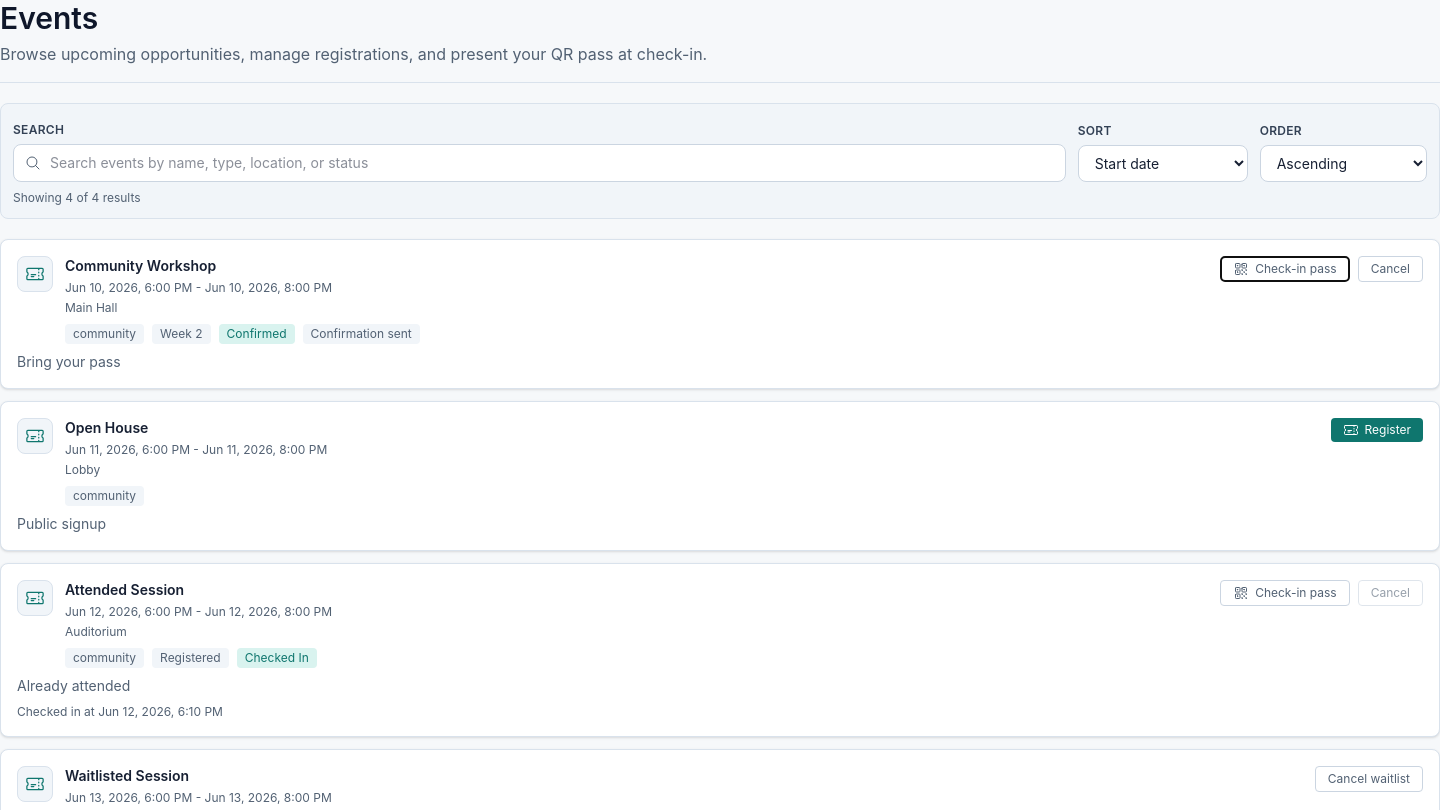
Test: PortalEventsPage › restores focus after dismissing the QR pass dialog with escape
Click the button "Check-in pass" in the row of "Community Workshop".
click(1285, 268)  # box top-left (1220, 256), bottom-right (1350, 282)
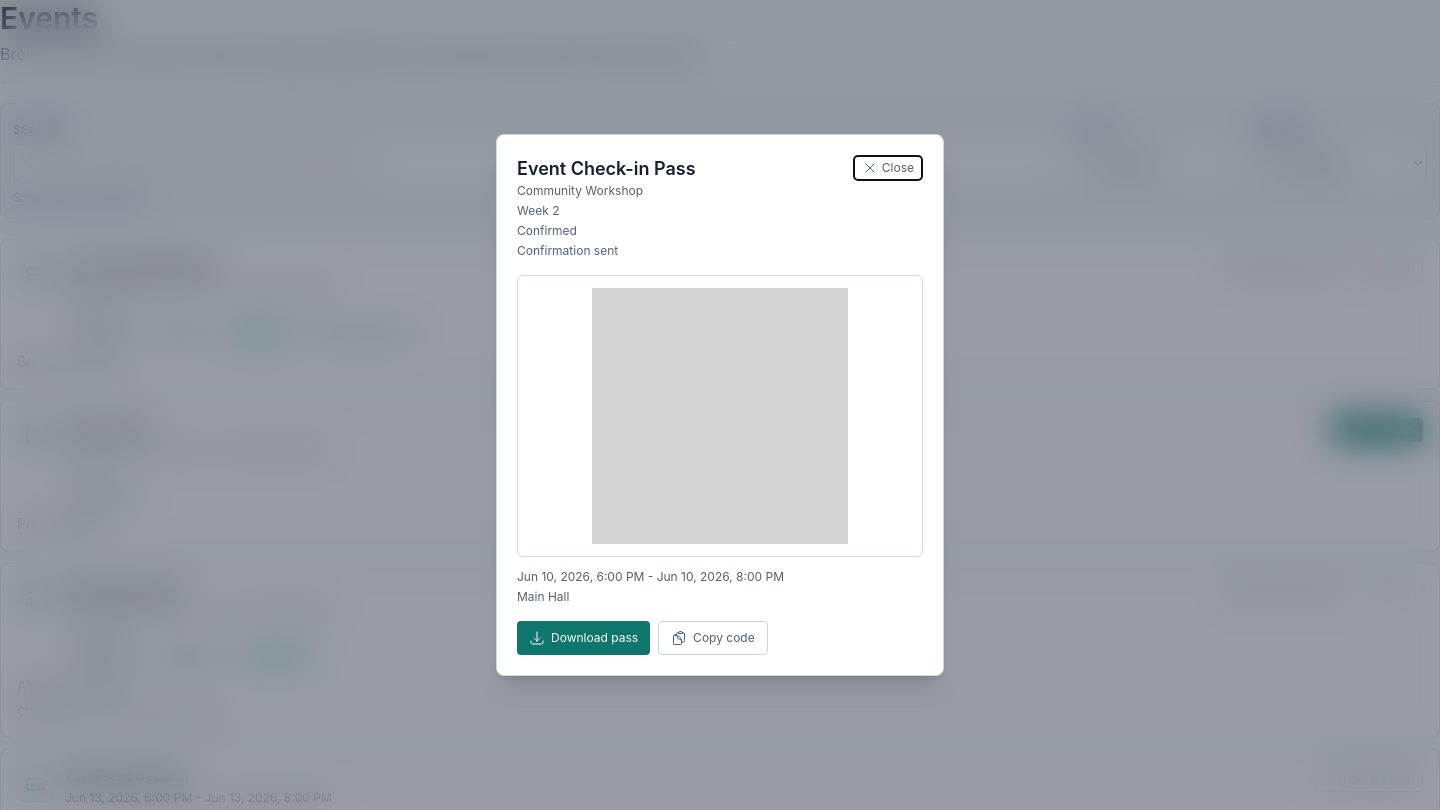
Press Escape
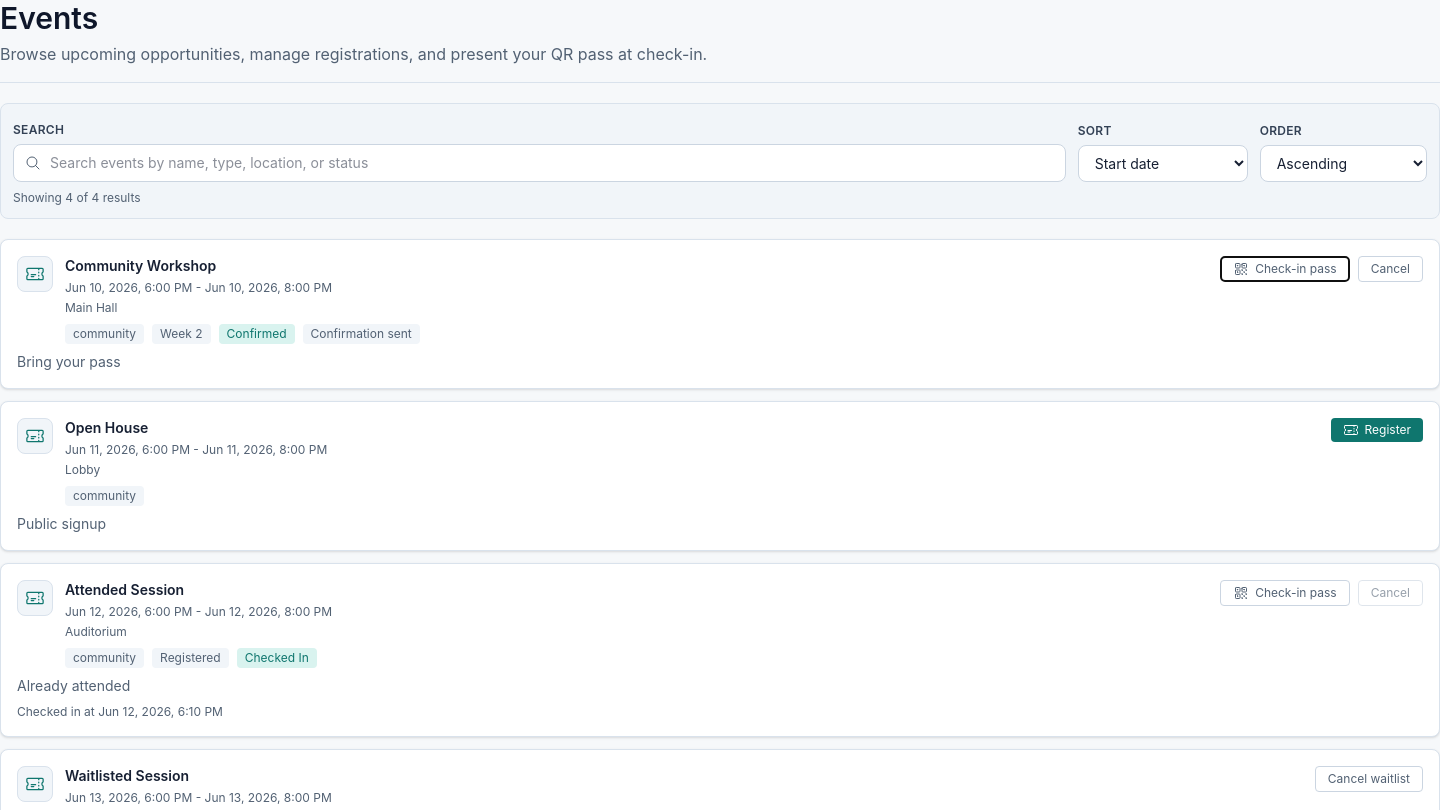
Expected: the heading "Event Check-in Pass" is gone
